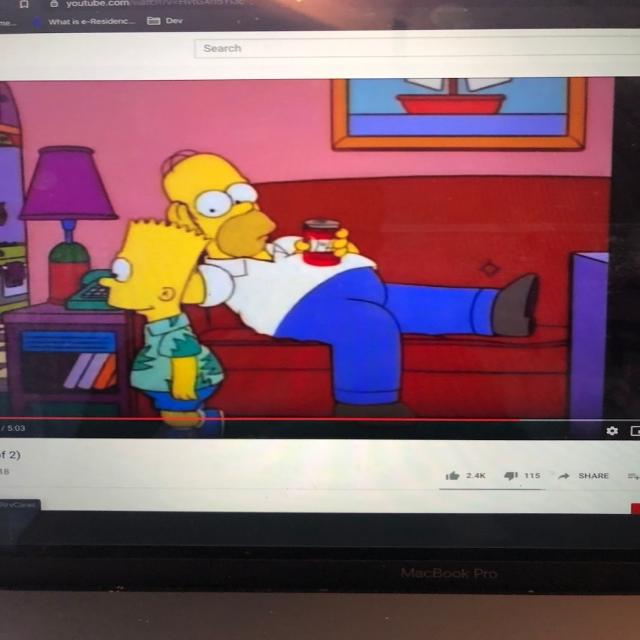Bart Simpson: (97, 217, 215, 323)
Homer Simpson: (156, 146, 283, 263)
